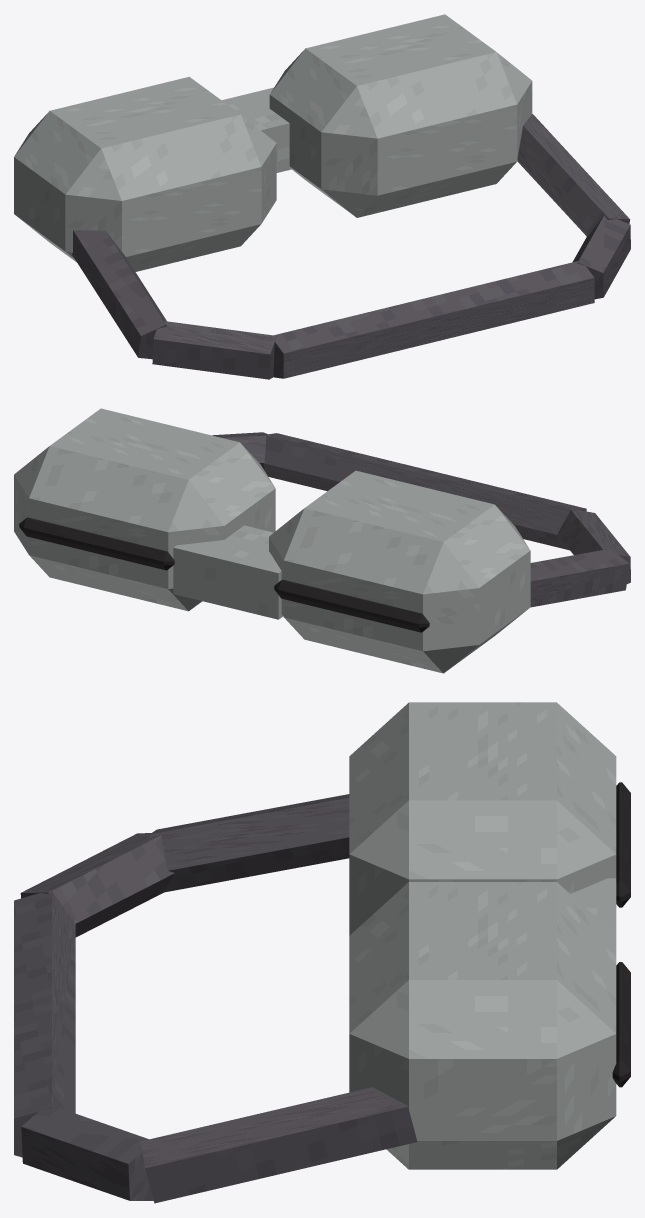
The model's file is iggaak.glb.
3 renders of one model, top to bottom at view 1: azimuth 30°, elevation 25°; view 2: azimuth 150°, elevation 25°; view 3: azimuth 270°, elevation 25°, orthographic. The views are drawn at different scales.
Parts seen in each view (by area): view 1: block_eyepiece (×2), block_elastic back strap 2, block_elastic back strap 0, block_elastic back strap 1, block_elastic back strap 4, block_elastic back strap 3, block_bridge; view 2: block_eyepiece (×2), block_elastic back strap 2, block_bridge, block_lens (×2), block_elastic back strap 0, block_elastic back strap 1, block_elastic back strap 3; view 3: block_eyepiece (×2), block_elastic back strap 4, block_elastic back strap 2, block_elastic back strap 0, block_elastic back strap 3, block_elastic back strap 1, block_lens (×2), block_bridge.
Boxes of the visible parts, x1,y1,x2,y2 form: block_eyepiece (×2): [14, 14, 532, 271]; block_elastic back strap 2: [270, 260, 594, 378]; block_elastic back strap 0: [72, 230, 166, 359]; block_elastic back strap 1: [152, 321, 276, 379]; block_elastic back strap 4: [517, 114, 630, 236]; block_elastic back strap 3: [573, 216, 630, 299]; block_bridge: [222, 87, 292, 172]; block_eyepiece (×2): [14, 408, 530, 673]; block_elastic back strap 2: [263, 433, 586, 550]; block_bridge: [173, 525, 282, 619]; block_lens (×2): [19, 517, 429, 632]; block_elastic back strap 0: [530, 548, 629, 607]; block_elastic back strap 1: [557, 508, 630, 583]; block_elastic back strap 3: [212, 432, 270, 470]; block_eyepiece (×2): [349, 702, 616, 1169]; block_elastic back strap 4: [141, 1087, 417, 1203]; block_elastic back strap 2: [14, 889, 75, 1157]; block_elastic back strap 0: [149, 794, 349, 892]; block_elastic back strap 3: [21, 1104, 153, 1200]; block_elastic back strap 1: [20, 833, 174, 937]; block_lens (×2): [612, 782, 630, 1087]; block_bridge: [570, 878, 616, 935].
Bounding box in the file's own units: 0.114 × 0.0334 × 0.0873.
1 material, 1 textured.
